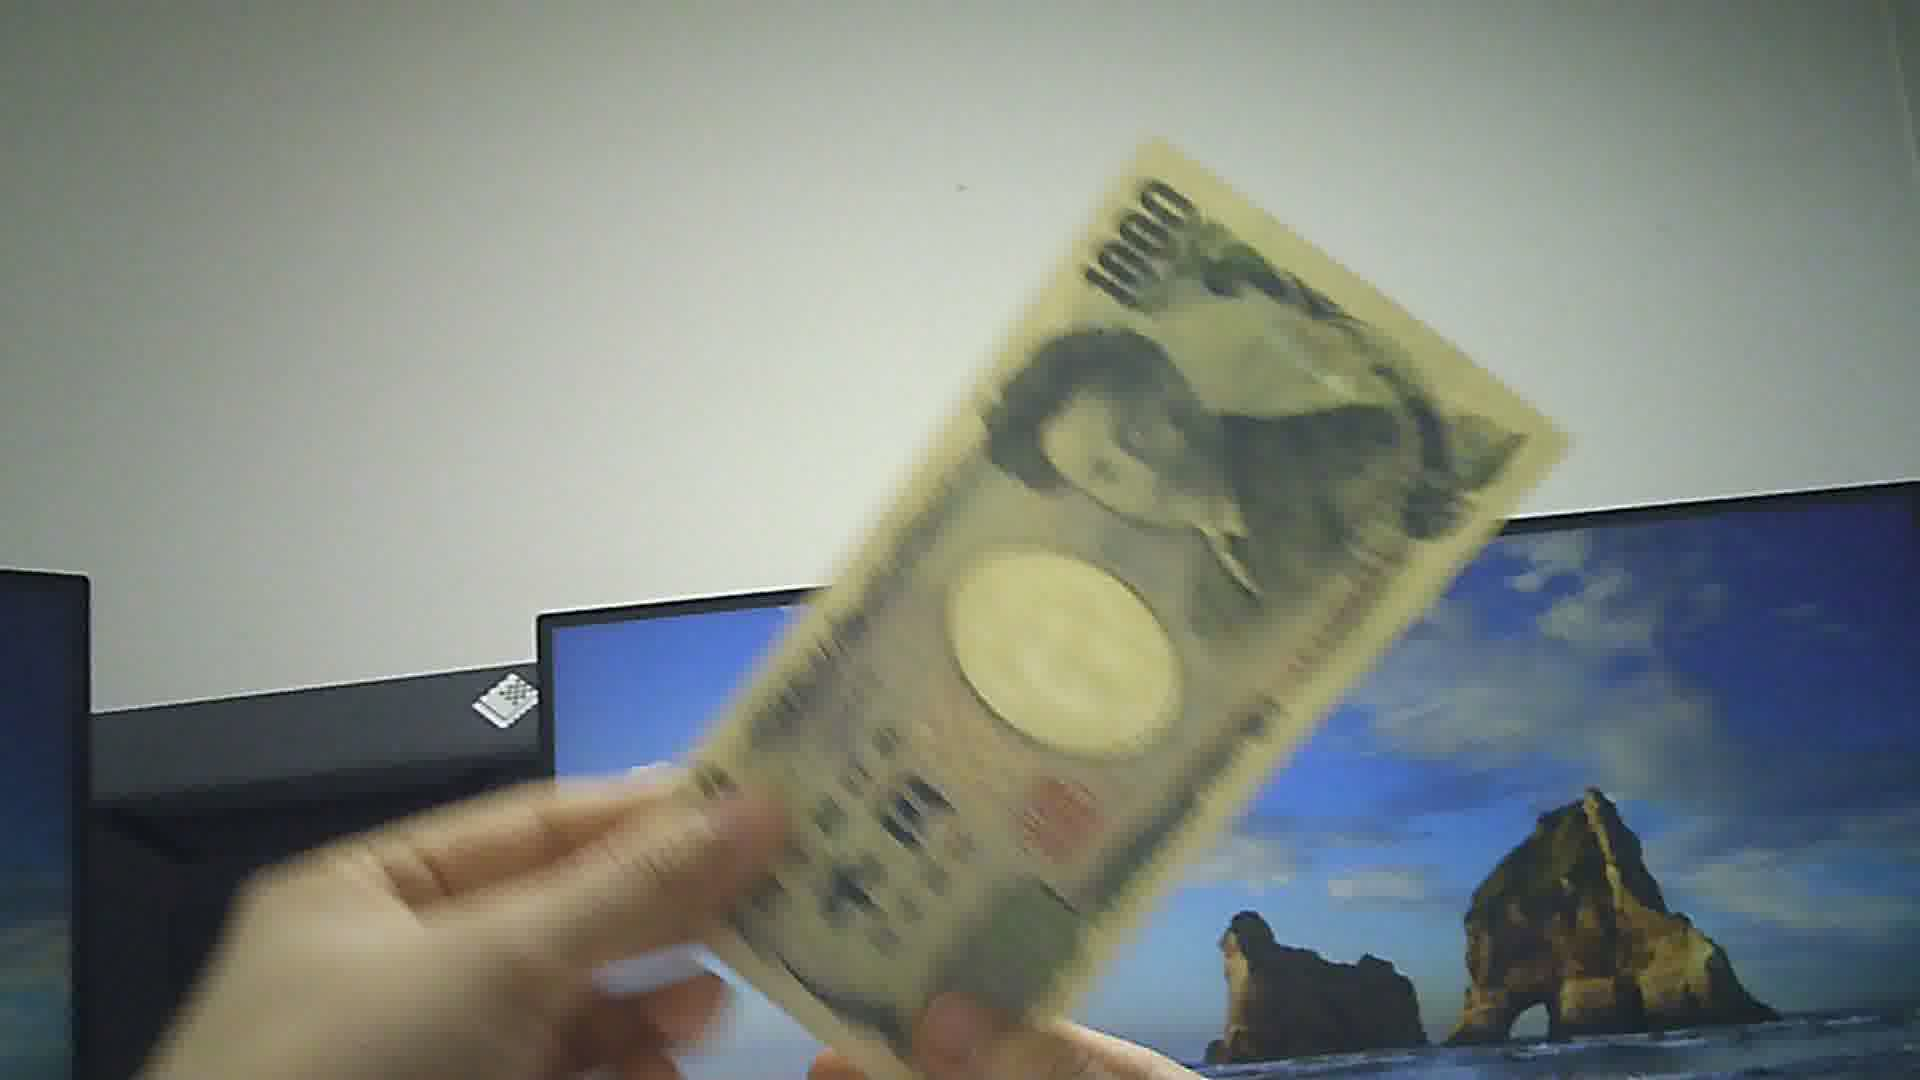1,000 Yen: (637, 142, 1582, 1075)
